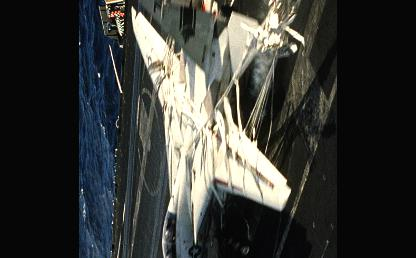EF2000: (130, 0, 292, 257)
